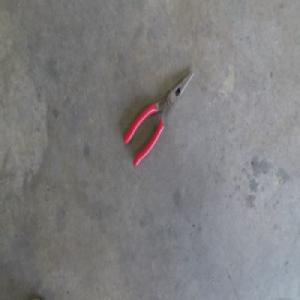Pliers: (122, 70, 194, 168)
